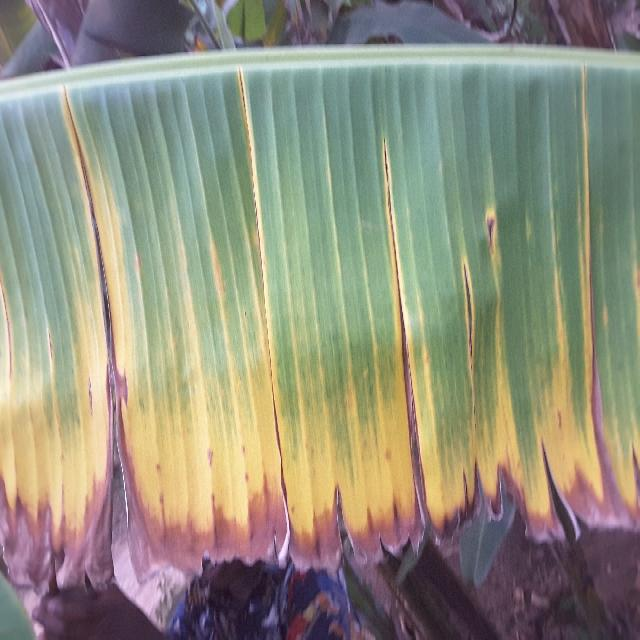Cordana: (3, 68, 639, 536)
